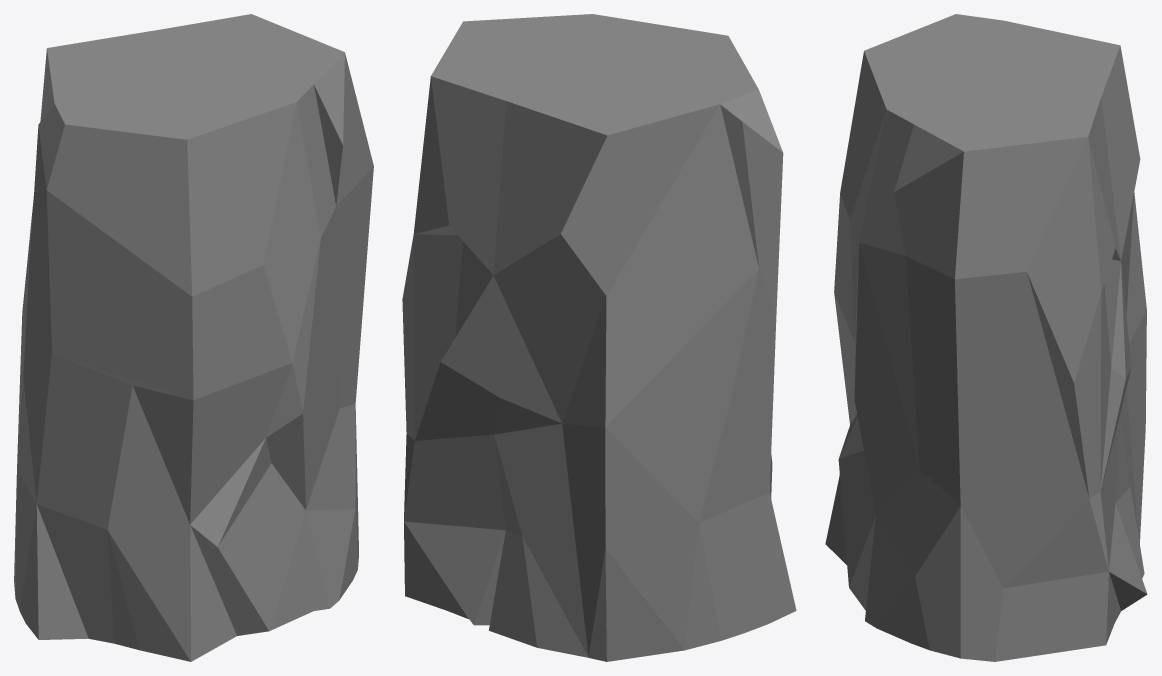
Rendered from SM_CLiff3_LOD0.fbx.
The picture shows the model from 3 angles, left to right: view 1: azimuth 30°, elevation 25°; view 2: azimuth 150°, elevation 25°; view 3: azimuth 270°, elevation 25°; orthographic projection. The views are drawn at different scales.
Parts seen in each view (by area): view 1: SM_Cliff3_LOD0; view 2: SM_Cliff3_LOD0; view 3: SM_Cliff3_LOD0.
Boxes of the visible parts, box(x1,y1,x2,y2) form: SM_Cliff3_LOD0: box(14, 14, 373, 661); SM_Cliff3_LOD0: box(402, 14, 796, 661); SM_Cliff3_LOD0: box(825, 14, 1147, 661).
Bounding box in the file's own units: 5.33 × 7.56 × 4.41.
